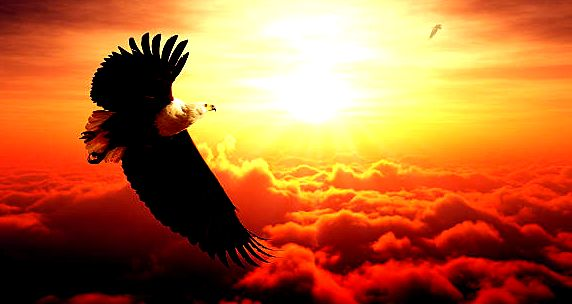Bird: (79, 30, 276, 271)
